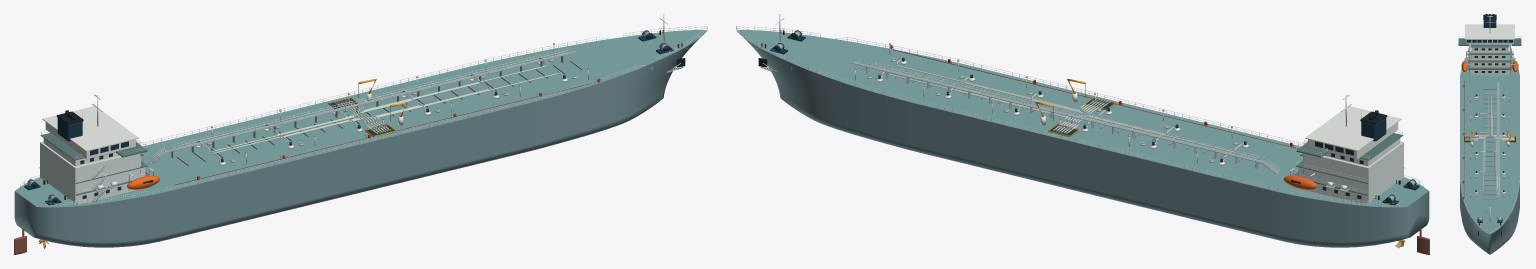
Rendered from arrangement_ship.glb.
3 views of the same model, side by side, from view 1: azimuth 30°, elevation 25°; view 2: azimuth 150°, elevation 25°; view 3: azimuth 270°, elevation 25° (orthographic). The views are drawn at different scales.
Visible parts, largest first — view 1: Continuous hull and deck, Original pipework railings and deck machinery_Retained, BridgeCabin, BridgeSupport, OriginalAftHouse, Original rail region Middle, Original rail region Aft_Deck, Original rail region Forward, Original rail region Bow; view 2: Continuous hull and deck, Original pipework railings and deck machinery_Retained, BridgeCabin, BridgeSupport, OriginalAftHouse, Original rail region Middle, Original rail region Aft_Deck, Original rail region Forward, Original rail region Bow; view 3: Continuous hull and deck, Original pipework railings and deck machinery_Retained, BridgeCabin, OriginalAftHouse, BridgeSupport, BridgeCabinDetail, Original rail region Bow.
Part boxes in pixels (x1,y1,x2,y2): Continuous hull and deck: (14,30,707,247); Original pipework railings and deck machinery_Retained: (24,14,689,205); BridgeCabin: (40,94,147,164); BridgeSupport: (40,142,140,203); OriginalAftHouse: (24,138,159,204); Original rail region Middle: (222,83,437,164); Original rail region Aft_Deck: (20,123,273,206); Original rail region Forward: (386,46,592,123); Original rail region Bow: (546,26,707,83); Continuous hull and deck: (736,30,1429,247); Original pipework railings and deck machinery_Retained: (754,14,1419,205); BridgeCabin: (1296,94,1403,164); BridgeSupport: (1303,142,1403,203); OriginalAftHouse: (1284,138,1419,204); Original rail region Middle: (1006,83,1221,164); Original rail region Aft_Deck: (1170,123,1423,206); Original rail region Forward: (851,46,1057,123); Original rail region Bow: (736,26,897,83); Continuous hull and deck: (1460,58,1519,254); Original pipework railings and deck machinery_Retained: (1463,59,1516,236); BridgeCabin: (1458,14,1521,50); OriginalAftHouse: (1461,44,1518,72); BridgeSupport: (1469,44,1510,65); BridgeCabinDetail: (1458,36,1521,53); Original rail region Bow: (1463,196,1516,232).
Size of what is drawn, in the model's own units: 203 by 39.39 by 27.88.
